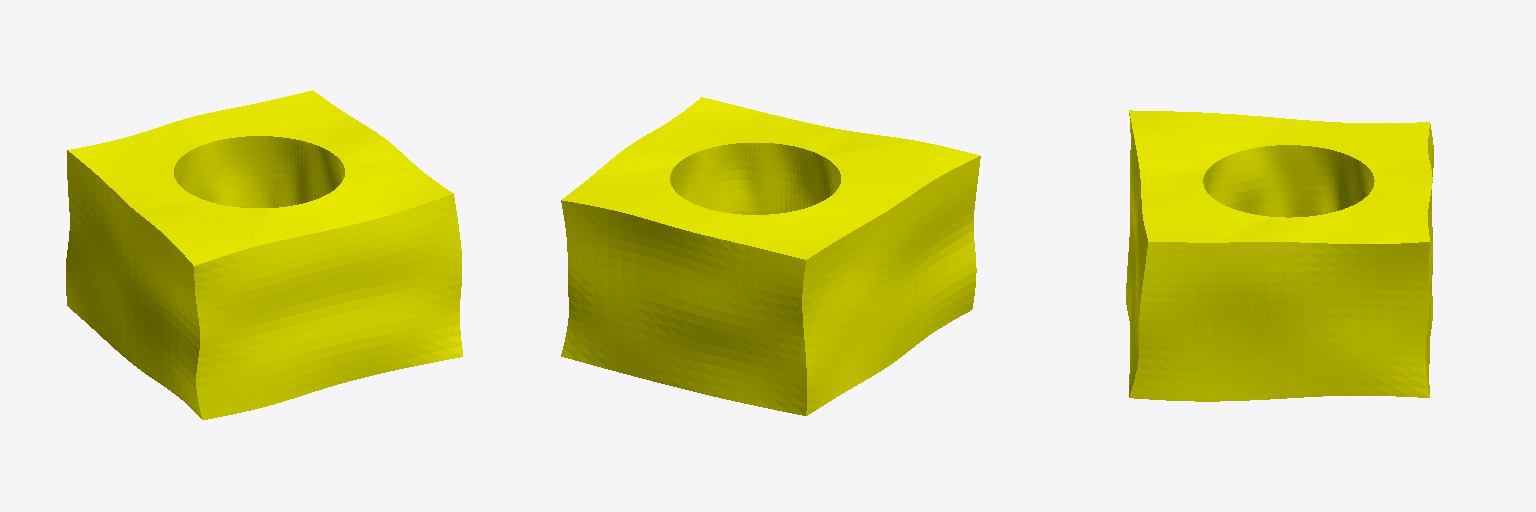
Rendered from trou_localisation.obj.
3 renders of one model, left to right at view 1: azimuth 30°, elevation 25°; view 2: azimuth 150°, elevation 25°; view 3: azimuth 270°, elevation 25°, orthographic.
Parts seen in each view (by area): view 1: Cube.001_Cube.002; view 2: Cube.001_Cube.002; view 3: Cube.001_Cube.002.
Boxes of the visible parts, x1=… form: Cube.001_Cube.002: x1=66, y1=90, x2=462, y2=419; Cube.001_Cube.002: x1=561, y1=97, x2=980, y2=415; Cube.001_Cube.002: x1=1126, y1=110, x2=1433, y2=401.
Bounding box in the file's own units: 3.68 × 2.07 × 3.57.